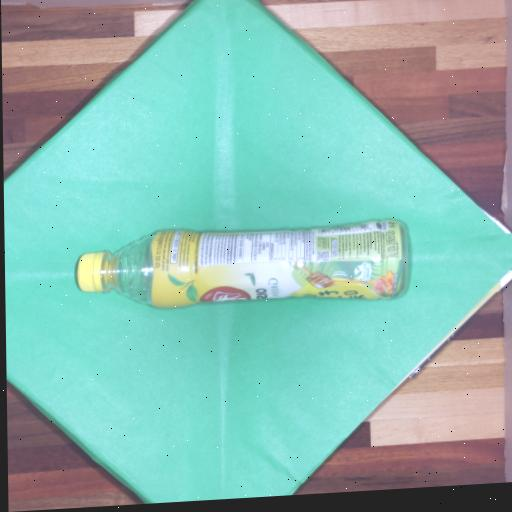bottle: (70, 199, 418, 333)
